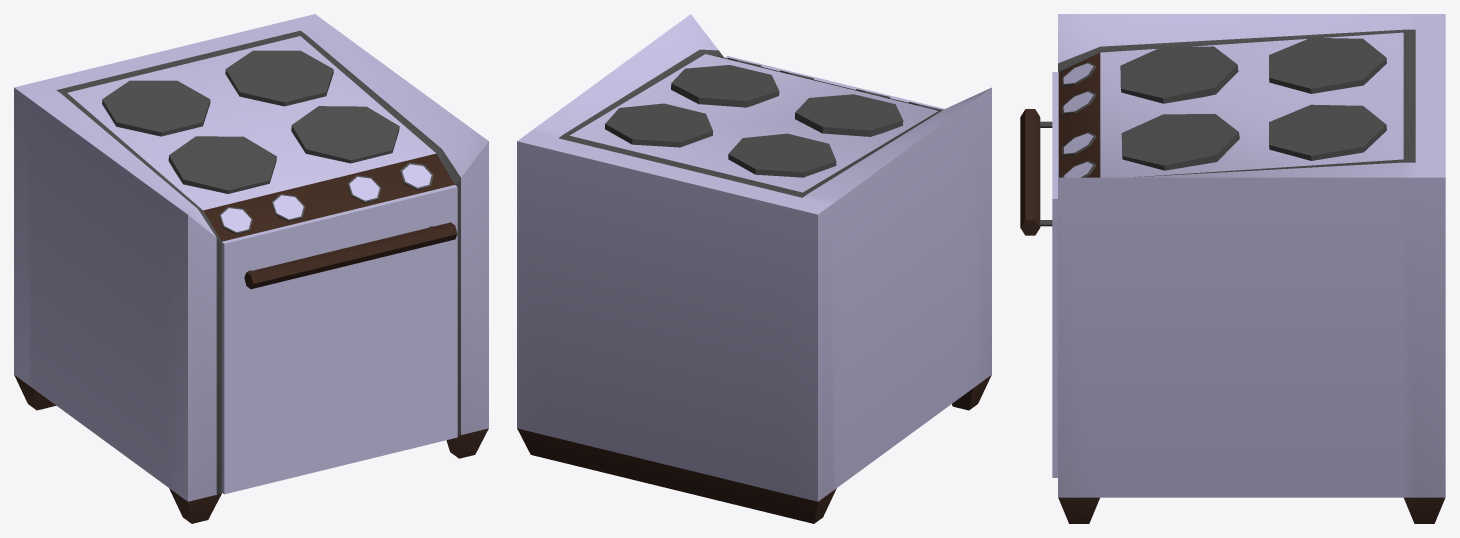
Rendered from Oven2.fbx.
3 renders of one model, left to right at view 1: azimuth 30°, elevation 25°; view 2: azimuth 150°, elevation 25°; view 3: azimuth 270°, elevation 25°, orthographic. The views are drawn at different scales.
Parts seen in each view (by area): view 1: Oven; view 2: Oven; view 3: Oven.
Boxes of the visible parts, x1,y1,x2,y2 form: Oven: [14, 14, 488, 523]; Oven: [517, 14, 991, 523]; Oven: [1020, 14, 1445, 523].
Size of the model in its own units: 1 by 1.01 by 1.1.
